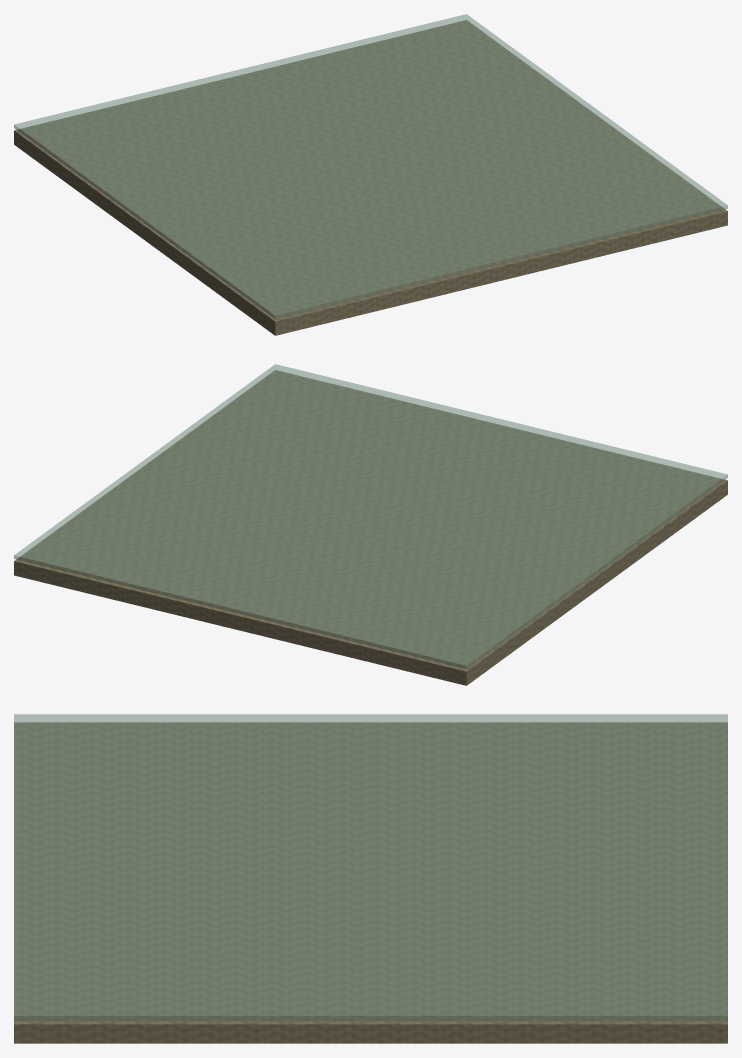
The model's file is open_swamp_water_tile_swamp_and_mangrove_22643.glb.
3 renders of one model, top to bottom at view 1: azimuth 30°, elevation 25°; view 2: azimuth 150°, elevation 25°; view 3: azimuth 270°, elevation 25°, orthographic. The views are drawn at different scales.
Visible parts, largest first — view 1: open-water-tile; view 2: open-water-tile; view 3: open-water-tile.
Part boxes in pixels (<box>): open-water-tile: <box>14,14,727,335</box>; open-water-tile: <box>14,364,727,685</box>; open-water-tile: <box>14,714,727,1043</box>.
Bounding box in the file's own units: 4 × 0.17 × 4.
Materials: 2 (1 with a texture image).
